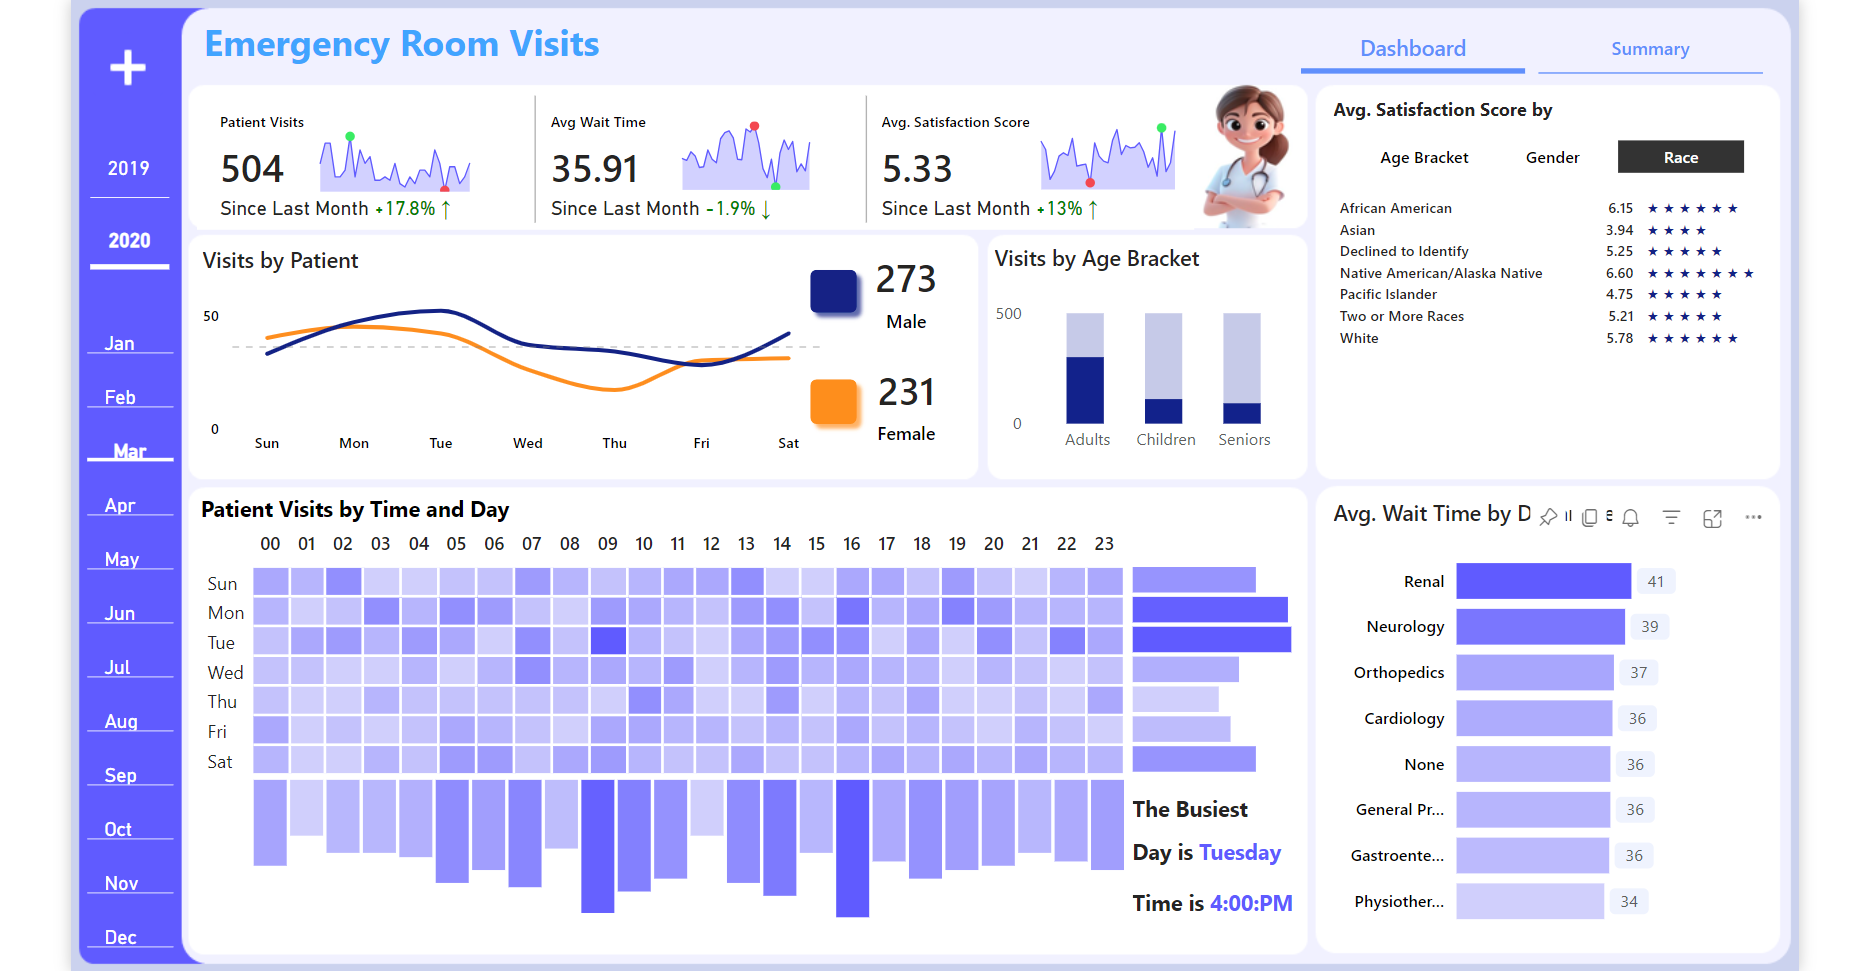

This screenshot's page, from the dashboard's own definition file:
{"tool":"powerbi","page":{"name":"Dashboard","canvas":[1280,720],"ordinal":0},"visuals":[{"type":"advancedSlicerVisual","fields":{"Values":["Calendar.Year"]},"box":[9.2,96.8,69.3,108.5],"z":0},{"type":"advancedSlicerVisual","fields":{"Values":["Calendar.Month"]},"box":[6.5,227.5,74.5,483.8],"z":1000},{"type":"cardVisual","fields":{"Data":["All measures.Total Number of Patients","All measures.Avg Wait Time","All measures.Avg. Satisfaction Score"]},"box":[92.8,65.4,738.8,104.6],"z":2000},{"type":"textbox","box":[92.8,7.8,316.4,57.5],"z":3000},{"type":"areaChart","fields":{"Y":["All measures.Patient Visits","All measures.Patient Visits Max Value","All measures.Patient Visits Min Value"],"Category":["Calendar.Day"]},"box":[165.7,76.9,177.7,70],"z":4000},{"type":"areaChart","fields":{"Category":["Calendar.Day"],"Y":["All measures.Avg Wait Time","All measures.AvG. Waiting Time Max Value","All measures.Avg. Wait Time Min Value"]},"box":[434.1,77.1,155.6,69.3],"z":5000},{"type":"areaChart","fields":{"Y":["All measures.Avg. Satisfaction Score","All measures.Avg. Satisfaction Score Max Value","All measures.Avg. Satisfaction Score Min Value"],"Category":["Calendar.Day"]},"box":[699.5,77.1,162.1,69.3],"z":6000},{"type":"lineChart","title":"Visits by Patient","fields":{"Y":["All measures.Patient Visits"],"Category":["Calendar.Weekday"],"Series":["Hospital ER.Gender"]},"box":[92.2,181.1,469.8,164],"z":7000},{"type":"shape","box":[540,192.2,49.7,47.1],"z":8000},{"type":"card","fields":{"Values":["All measures.Male"]},"box":[570.1,180.4,96.8,70.6],"z":9000},{"type":"shape","box":[540,273.3,49.7,48.4],"z":10000},{"type":"card","fields":{"Values":["All measures.Female"]},"box":[570.1,262.8,96.8,70.6],"z":11000},{"type":"clusteredColumnChart","title":"Visits by Age Bracket","fields":{"Y":["All measures.Patient Visits","All measures.Patient Visit Dummy"],"Category":["Hospital ER.Age Bracket"]},"box":[678.6,180.4,234,163.4],"z":12000},{"type":"tableEx","fields":{"Values":["Hospital ER.Race","All measures.Avg. Satisfaction Score","All measures.Ratings"]},"box":[929.3,111,333.1,234],"z":13000},{"type":"slicer","fields":{"Values":["Sat_para.Sat_para"]},"box":[929.7,96.8,333.4,32.7],"z":14000},{"type":"textbox","box":[929.7,65.4,193.5,31.4],"z":15000},{"type":"clusteredBarChart","title":"Avg. Wait Time by Department","fields":{"Category":["Hospital ER.Department Referral"],"Y":["All measures.Avg Wait Time"]},"box":[929.7,368.7,330.8,330.8],"z":16000},{"type":"pivotTable","fields":{"Rows":["Calendar.Weekday"],"Columns":["Hospital ER.Hour"],"Values":["All measures.Patient Visits"]},"box":[91.5,387,704.8,194.8],"z":17000},{"type":"clusteredBarChart","fields":{"Category":["Calendar.Weekday"],"Y":["All measures.Patient Visits"]},"box":[780.6,406.6,135,170],"z":18000},{"type":"clusteredColumnChart","fields":{"Y":["All measures.Patient Visits"],"Category":["Hospital ER.Hour"]},"box":[130.1,563.3,654.8,147.3],"z":19000},{"type":"textbox","box":[91.5,359.6,262.8,47.1],"z":20000},{"type":"textbox","box":[780.6,582.5,111,32.5],"z":21000},{"type":"textbox","box":[780.6,615,148.6,46.1],"z":22000},{"type":"textbox","box":[780.6,652.5,149.1,47.1],"z":23000},{"type":"pageNavigator","box":[911.3,15.7,343.9,39.2],"z":24000},{"type":"image","box":[5.2,10.5,73.2,77.1],"z":24001}]}

Visuals, with their boxes on the page's 1280x720 design canvas (x1, y1, x2, y2). These are canvas units, not pixel positions in the 1865x971 screenshot, which may show the page scaled, cropped or inside an application window:
advancedSlicerVisual - Calendar.Year: select_region(9, 97, 78, 205)
advancedSlicerVisual - Calendar.Month: select_region(6, 228, 81, 711)
cardVisual - All measures.Total Number of Patients x All measures.Avg Wait Time: select_region(93, 65, 832, 170)
textbox: select_region(93, 8, 409, 65)
areaChart - All measures.Patient Visits x All measures.Patient Visits Max Value: select_region(166, 77, 343, 147)
areaChart - Calendar.Day x All measures.Avg Wait Time: select_region(434, 77, 590, 146)
areaChart - All measures.Avg. Satisfaction Score x All measures.Avg. Satisfaction Score Max Value: select_region(700, 77, 862, 146)
"Visits by Patient" lineChart: select_region(92, 181, 562, 345)
shape: select_region(540, 192, 590, 239)
card - All measures.Male: select_region(570, 180, 667, 251)
shape: select_region(540, 273, 590, 322)
card - All measures.Female: select_region(570, 263, 667, 333)
"Visits by Age Bracket" clusteredColumnChart: select_region(679, 180, 913, 344)
tableEx - Hospital ER.Race x All measures.Avg. Satisfaction Score: select_region(929, 111, 1262, 345)
slicer - Sat_para.Sat_para: select_region(930, 97, 1263, 130)
textbox: select_region(930, 65, 1123, 97)
"Avg. Wait Time by Department" clusteredBarChart: select_region(930, 369, 1260, 700)
pivotTable - Calendar.Weekday x Hospital ER.Hour: select_region(92, 387, 796, 582)
clusteredBarChart - Calendar.Weekday x All measures.Patient Visits: select_region(781, 407, 916, 577)
clusteredColumnChart - All measures.Patient Visits x Hospital ER.Hour: select_region(130, 563, 785, 711)
textbox: select_region(92, 360, 354, 407)
textbox: select_region(781, 582, 892, 615)
textbox: select_region(781, 615, 929, 661)
textbox: select_region(781, 652, 930, 700)
pageNavigator: select_region(911, 16, 1255, 55)
image: select_region(5, 10, 78, 88)
